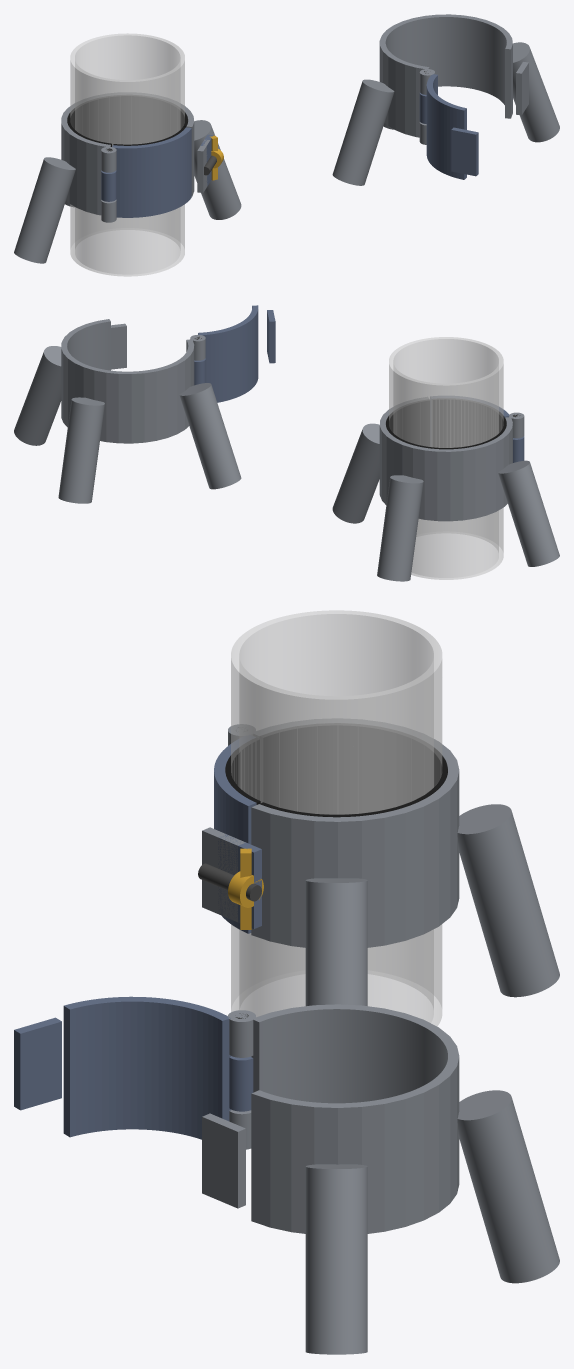
3 views of the same model, one above another, from view 1: azimuth 30°, elevation 25°; view 2: azimuth 150°, elevation 25°; view 3: azimuth 270°, elevation 25° (orthographic). The views are drawn at different scales.
Visible parts, largest first — view 1: growing_pipe_stub, collar_body_with_sleeves_6, collar_body_with_sleeves_0, gate_1, rubber_liner_3, gate_7, wing_nut_5; view 2: collar_body_with_sleeves_6, collar_body_with_sleeves_0, growing_pipe_stub, rubber_liner_3, gate_7, gate_1; view 3: collar_body_with_sleeves_6, growing_pipe_stub, collar_body_with_sleeves_0, gate_7, rubber_liner_3, gate_1, wing_nut_5.
Boxes of the visible parts, x1,y1,x2,y2 form: growing_pipe_stub: [70, 33, 184, 276]; collar_body_with_sleeves_6: [332, 14, 559, 185]; collar_body_with_sleeves_0: [14, 93, 241, 263]; gate_1: [101, 127, 213, 217]; rubber_liner_3: [67, 95, 187, 146]; gate_7: [419, 74, 478, 179]; wing_nut_5: [210, 135, 223, 180]; collar_body_with_sleeves_6: [14, 319, 241, 503]; collar_body_with_sleeves_0: [332, 397, 559, 581]; growing_pipe_stub: [389, 337, 503, 579]; rubber_liner_3: [386, 399, 506, 449]; gate_7: [194, 305, 275, 402]; gate_1: [430, 396, 524, 462]; collar_body_with_sleeves_6: [202, 1004, 559, 1354]; growing_pipe_stub: [231, 610, 442, 1026]; collar_body_with_sleeves_0: [202, 719, 559, 1006]; gate_7: [14, 996, 253, 1139]; rubber_liner_3: [225, 723, 447, 817]; gate_1: [214, 735, 261, 933]; wing_nut_5: [228, 848, 263, 929].
Bounding box in the file's own units: 408 × 140 × 194.
